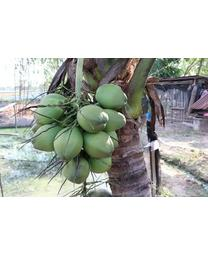coconut: (32, 90, 74, 123), (31, 123, 67, 153), (53, 125, 83, 161), (54, 157, 93, 183), (76, 101, 110, 130), (95, 85, 129, 109), (83, 134, 117, 158), (90, 156, 125, 177), (100, 107, 128, 129)
